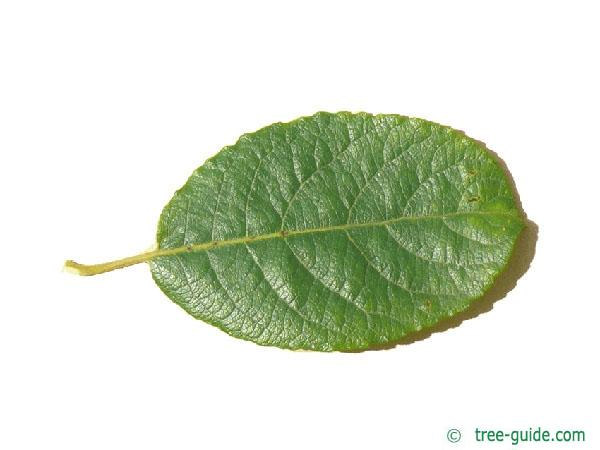healthy: (120, 87, 574, 371)
